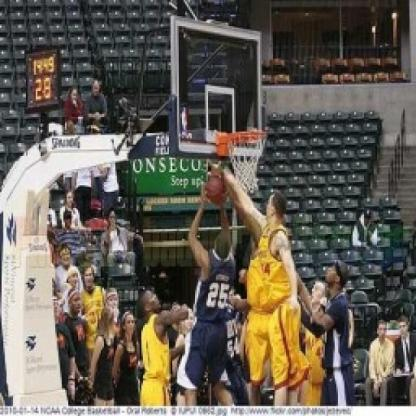basketball: (202, 168, 230, 205)
